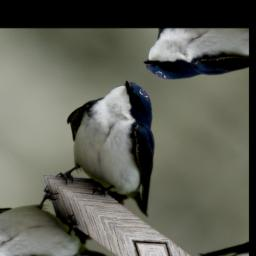Swallow: (27, 65, 218, 234)
